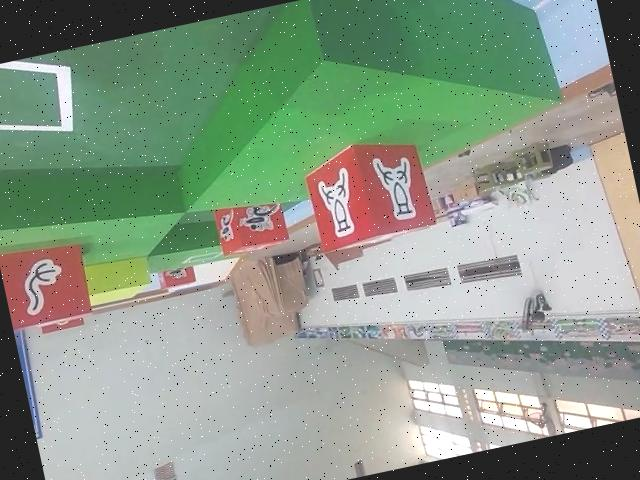R1: (204, 182, 290, 261)
R2 Real: (296, 125, 438, 258), (0, 230, 97, 336)
